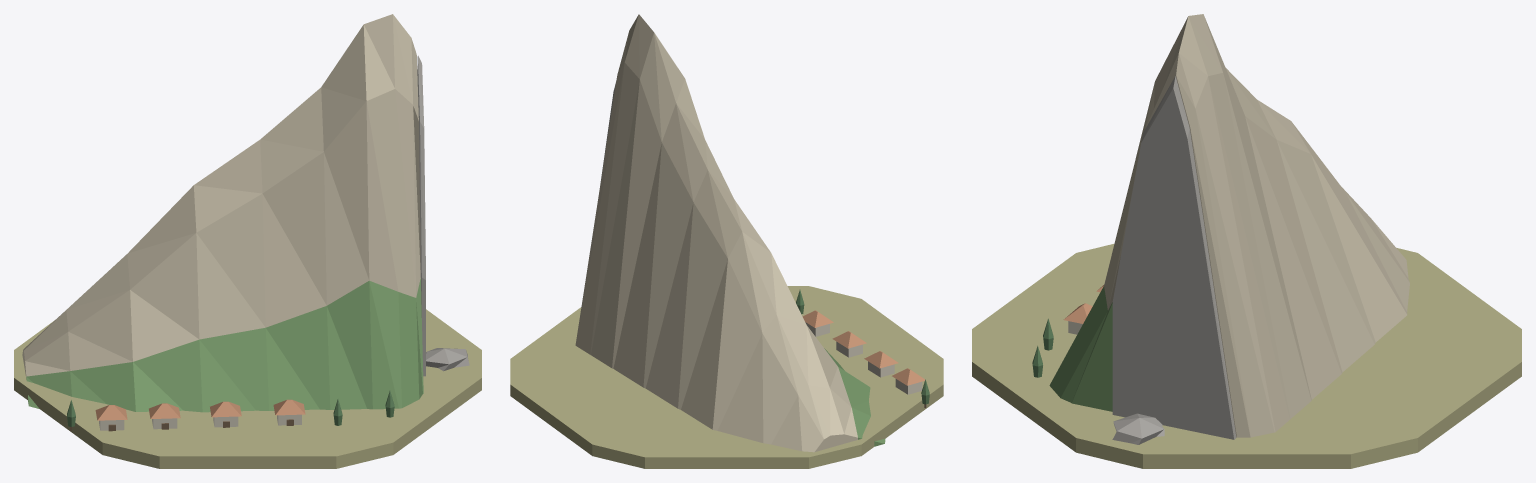
The model's file is rock-of-gibraltar.glb.
3 renders of one model, left to right at view 1: azimuth 30°, elevation 25°; view 2: azimuth 150°, elevation 25°; view 3: azimuth 270°, elevation 25°, orthographic. The views are drawn at different scales.
Parts seen in each view (by area): view 1: LOD0; view 2: LOD0; view 3: LOD0.
Part boxes in pixels (x1,y1,x2,y2): LOD0: (14, 14, 481, 468); LOD0: (510, 14, 943, 468); LOD0: (972, 14, 1521, 468).
Size of what is drawn, in the model's own units: 1.69 by 1.46 by 1.76.
